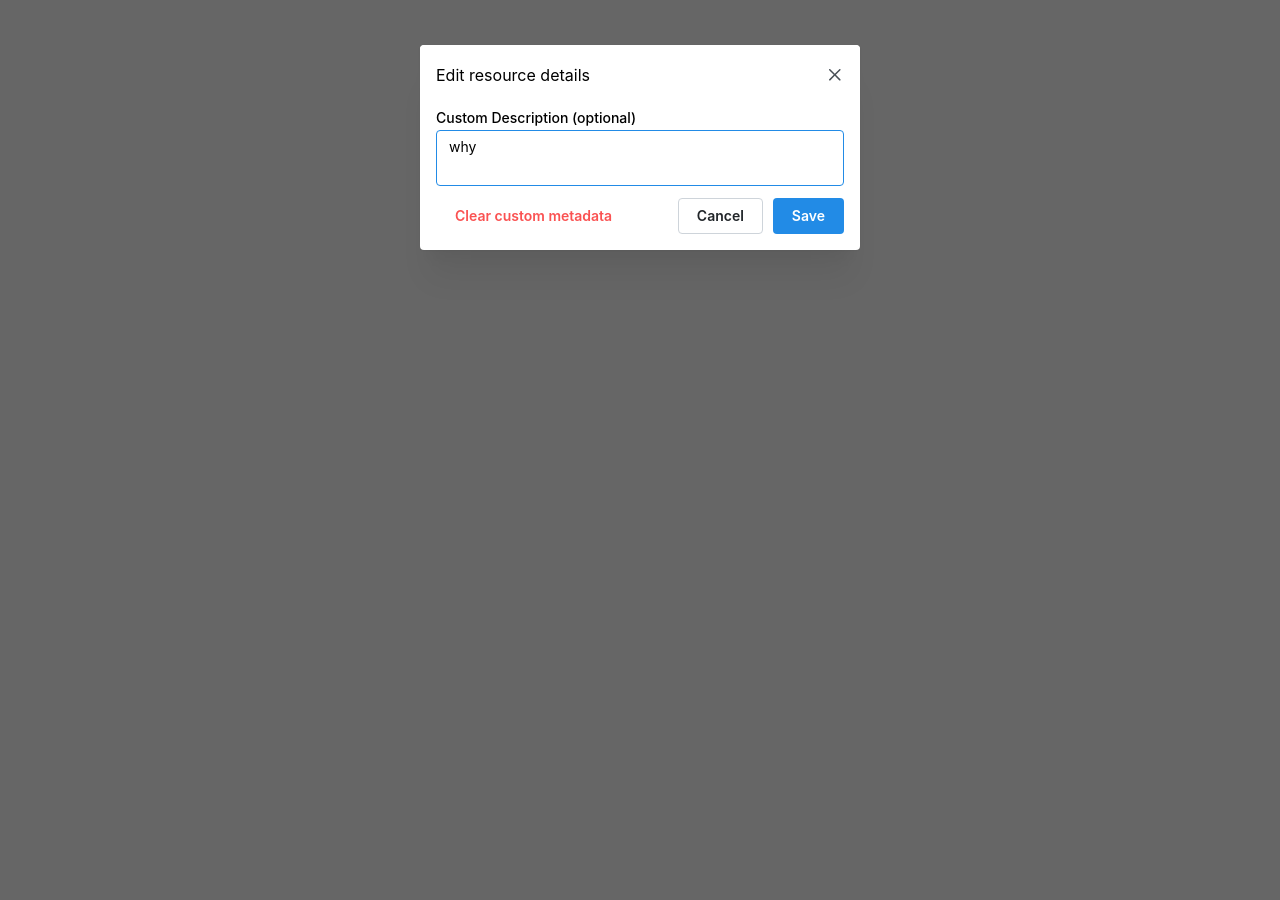
Test: EditResourceDetailsModal › surfaces a save failure and stays open
The width and height of the screenshot is (1280, 900).
Click the button "Save".
click(808, 216)  # box [773,198,844,234]
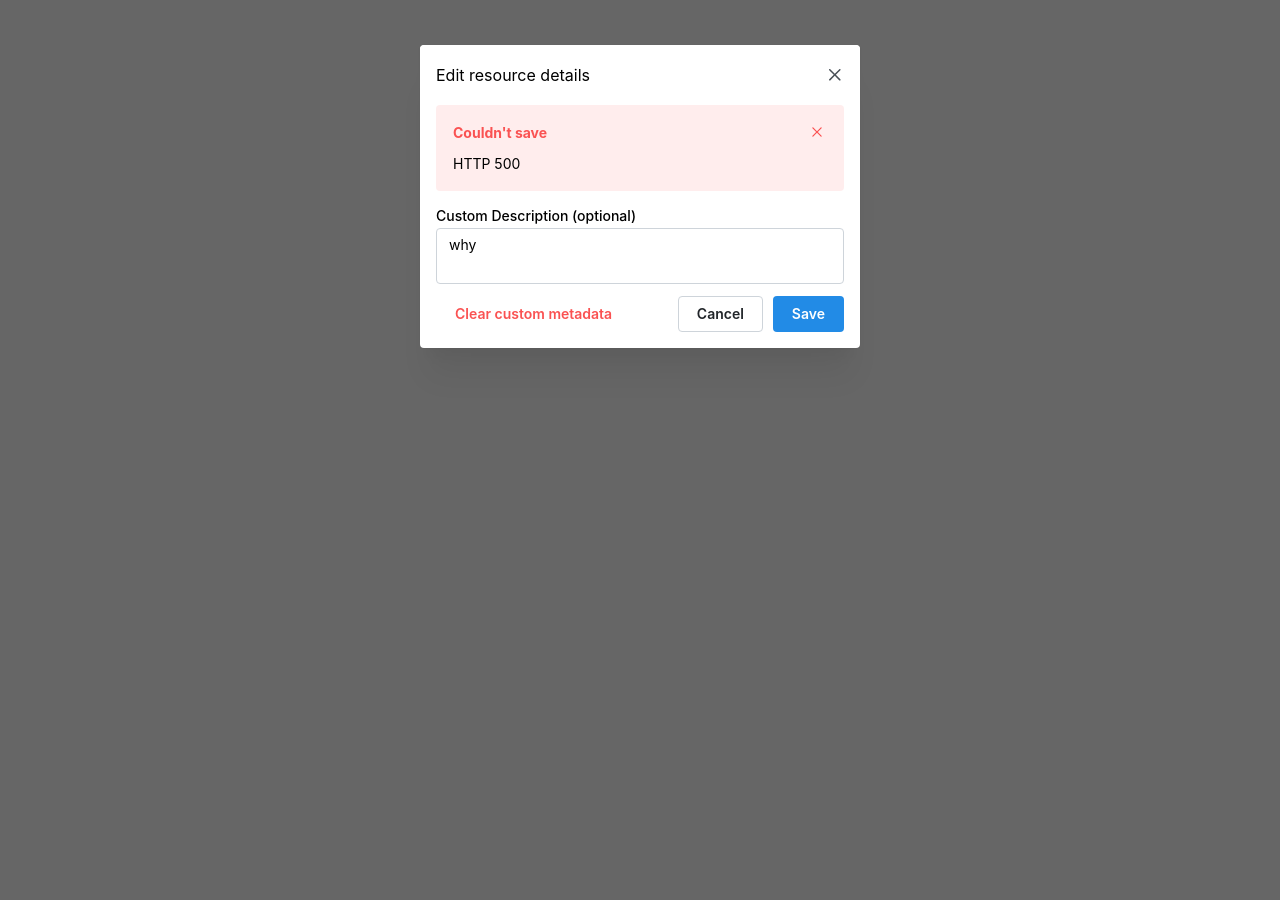
Now the text "HTTP 500" is shown, box [453,155,520,172]
